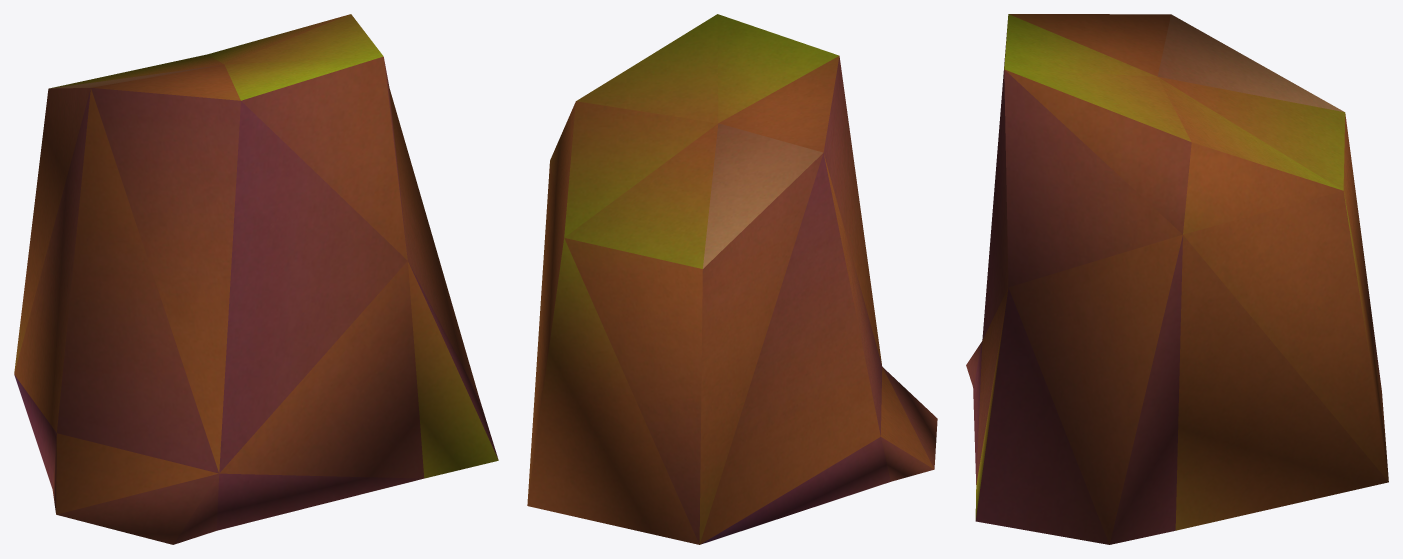
File: Tree-06.fbx
3 views of the same model, side by side, from view 1: azimuth 30°, elevation 25°; view 2: azimuth 150°, elevation 25°; view 3: azimuth 270°, elevation 25° (orthographic). The views are drawn at different scales.
Visible parts, largest first — view 1: Tree-06; view 2: Tree-06; view 3: Tree-06.
Boxes of the visible parts, box(x1,y1,x2,y2) form: Tree-06: box(14, 14, 498, 544); Tree-06: box(527, 14, 937, 544); Tree-06: box(966, 14, 1388, 544).
Size of the model in its own units: 0.2746 by 0.2509 by 0.2375.
